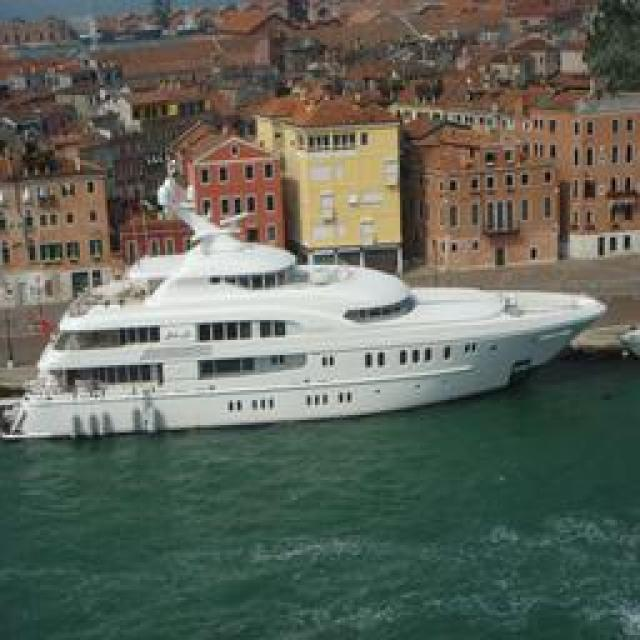Ship: (10, 234, 613, 439)
